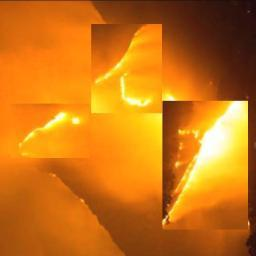Heavy smoke: (3, 2, 205, 256)
Large fire: (163, 103, 249, 229), (89, 25, 161, 113), (14, 103, 86, 155)
